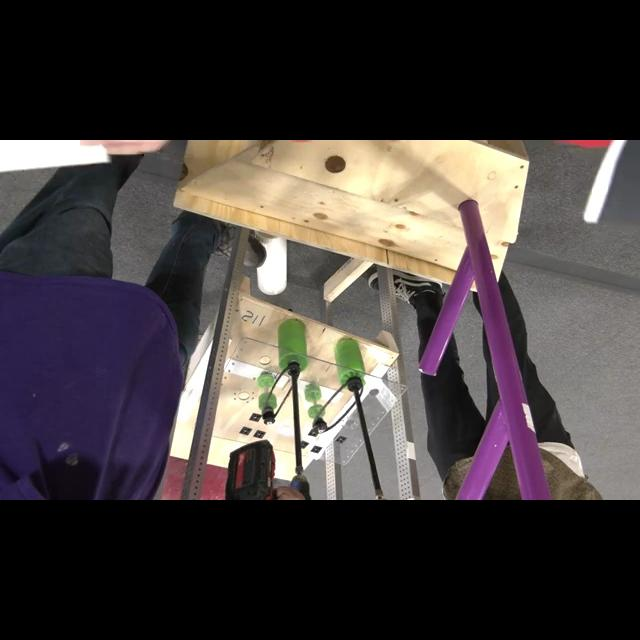CORAL: (254, 232, 288, 296)
